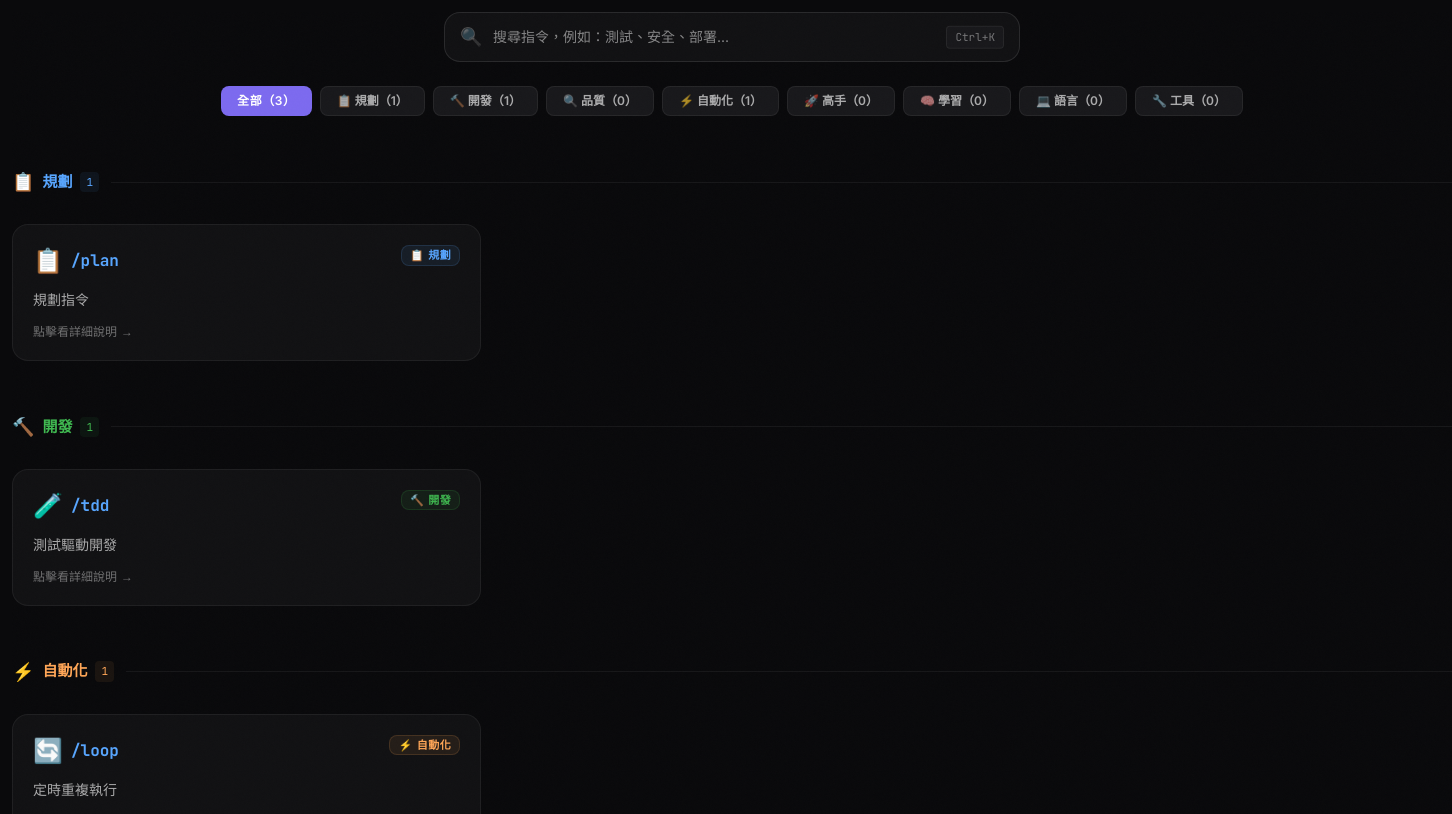
Test: SearchFilter › filters commands by search query (shortDesc match)
The width and height of the screenshot is (1452, 814).
Type "定時" into the search field with placeholder "搜尋指令，例如：測試、安全、部署...".
click(732, 37); type("定時")  # box [444,12,1020,62]
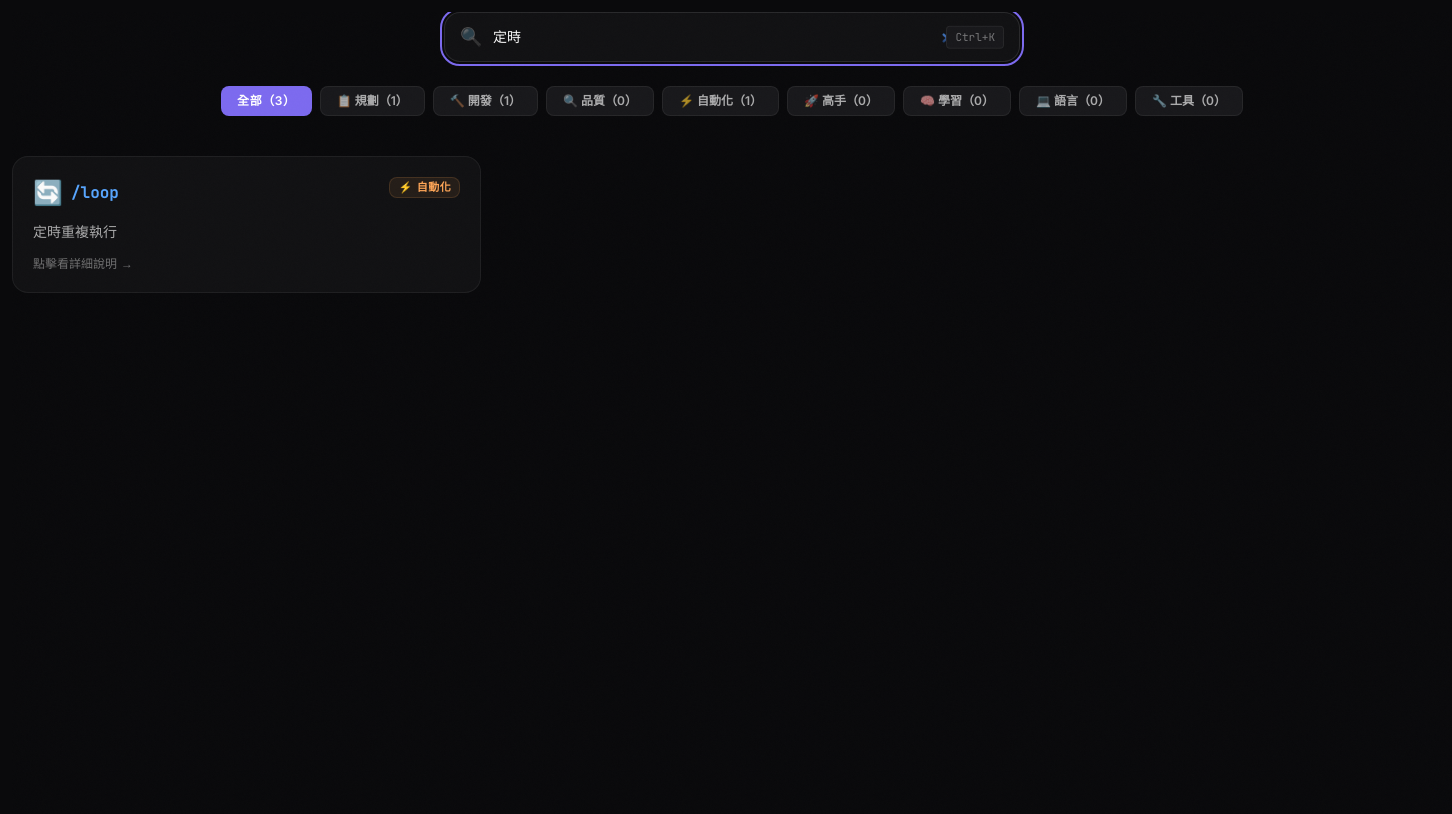
Expected: the text "/loop" is shown, [71,181,119,205]
Now the link "/plan" is gone
